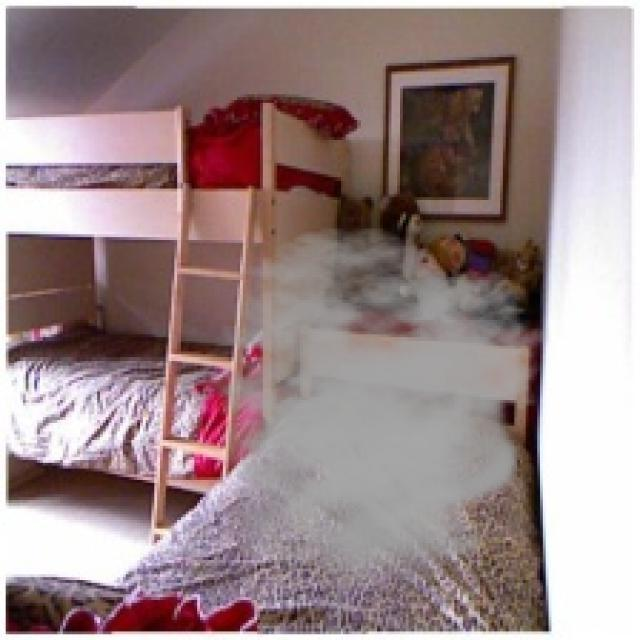Smoke: (177, 226, 552, 588)
